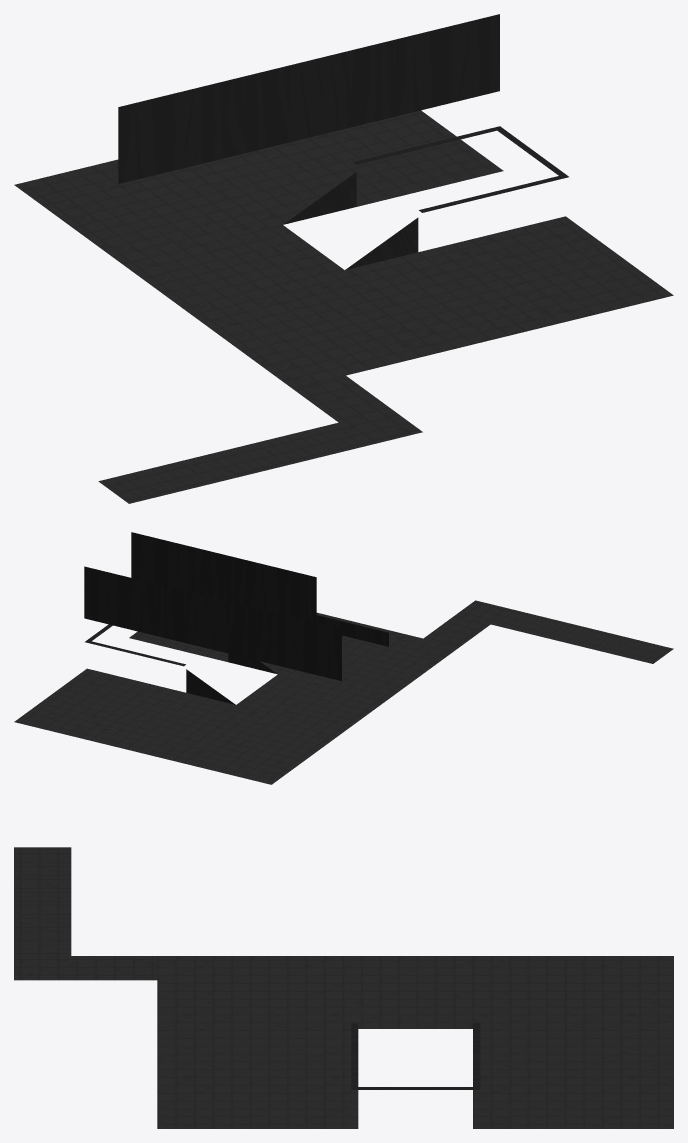
The model's file is artifactroomBLK.fbx.
3 renders of one model, top to bottom at view 1: azimuth 30°, elevation 25°; view 2: azimuth 150°, elevation 25°; view 3: azimuth 270°, elevation 25°, orthographic. The views are drawn at different scales.
Parts seen in each view (by area): view 1: mesh_15.001; view 2: mesh_15.001; view 3: mesh_15.001.
Boxes of the visible parts, bbox=[...] form: mesh_15.001: bbox=[14, 14, 673, 503]; mesh_15.001: bbox=[14, 532, 673, 784]; mesh_15.001: bbox=[14, 847, 673, 1128].
Size of the model in its own units: 1487 by 352 by 1472.
